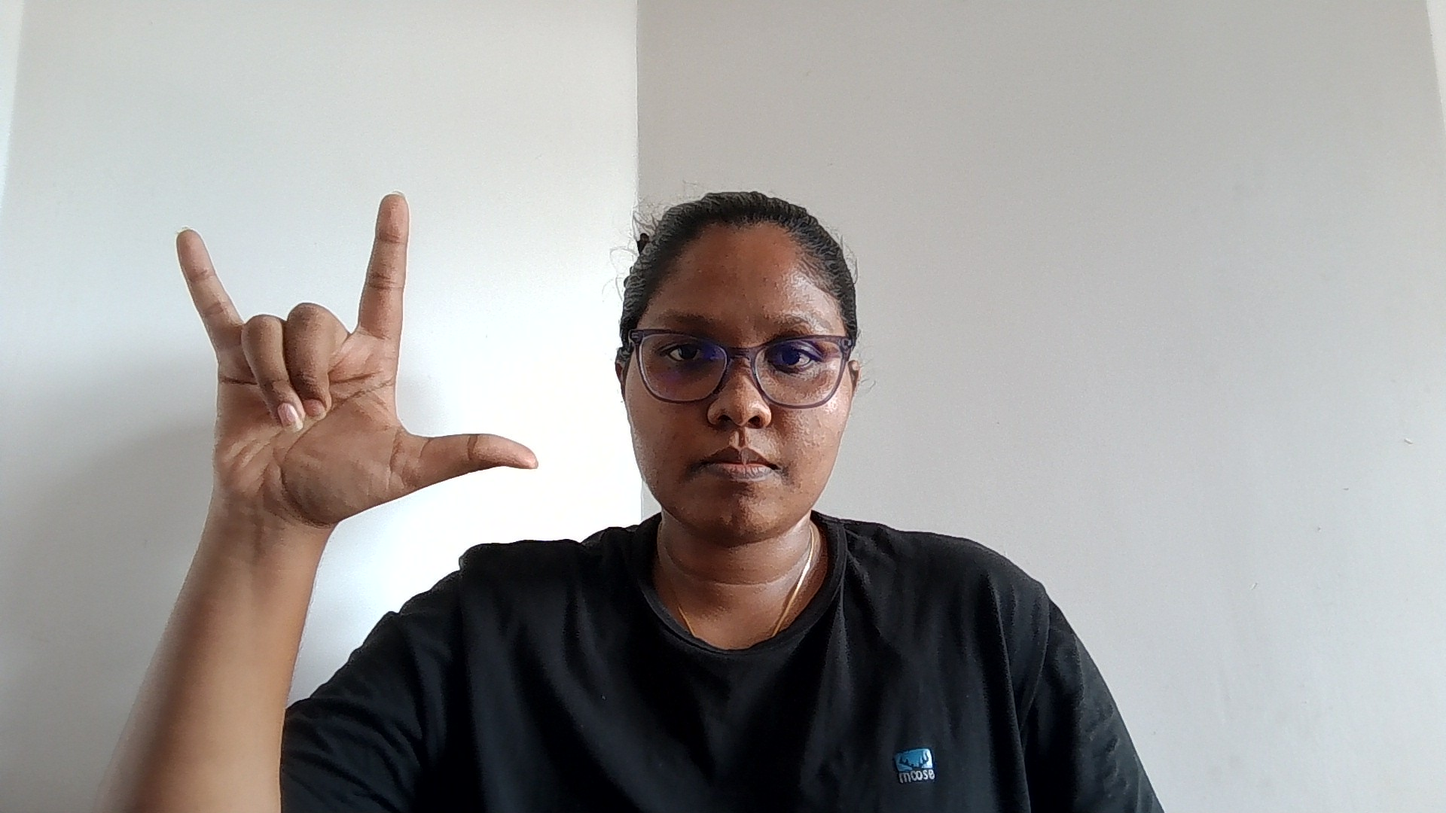I Love You: (151, 164, 655, 512), (141, 132, 488, 612)
